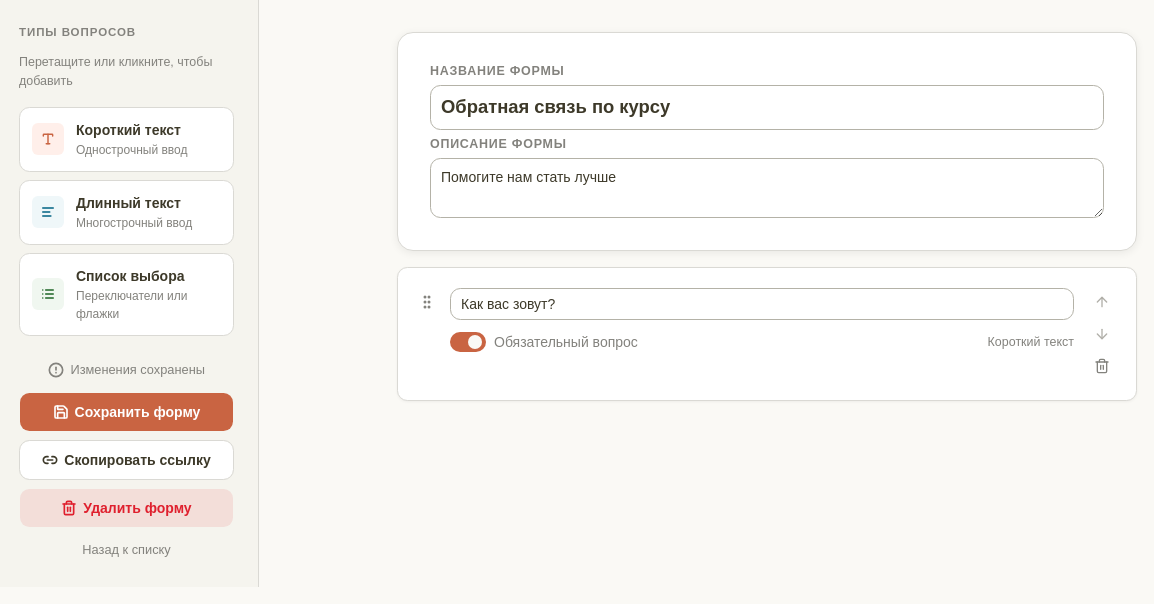
Scenario: FormBuilderPage › сохранение обновлённой формы показывает сообщение успеха
The image size is (1154, 604).
Replace the text in the field labelled "Название формы" with "Изменено" at point(767, 108), box [430,86,1104,130]
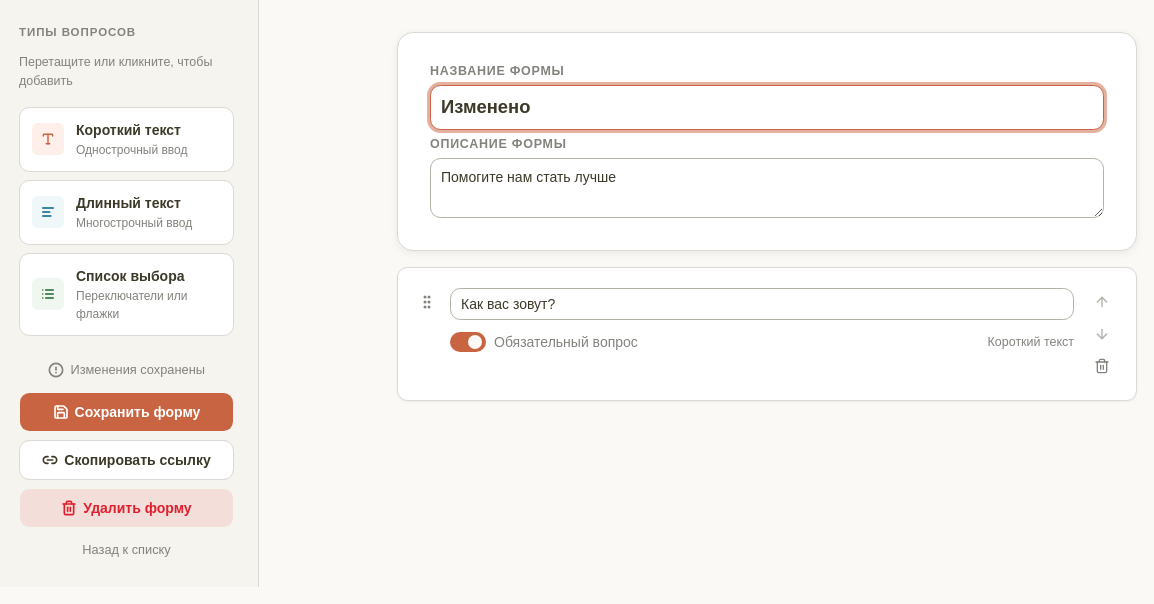
Click the button "Сохранить форму" at point(126, 412), box [19,392,234,432]
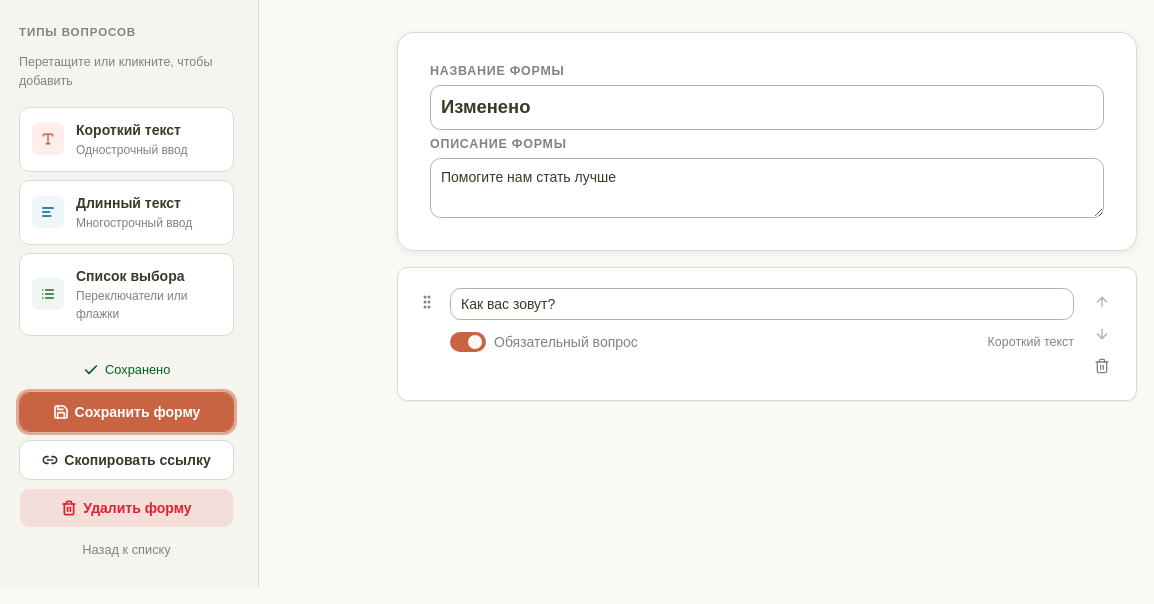
Check: the text "Сохранено" is shown, box [83,362,170,378]
